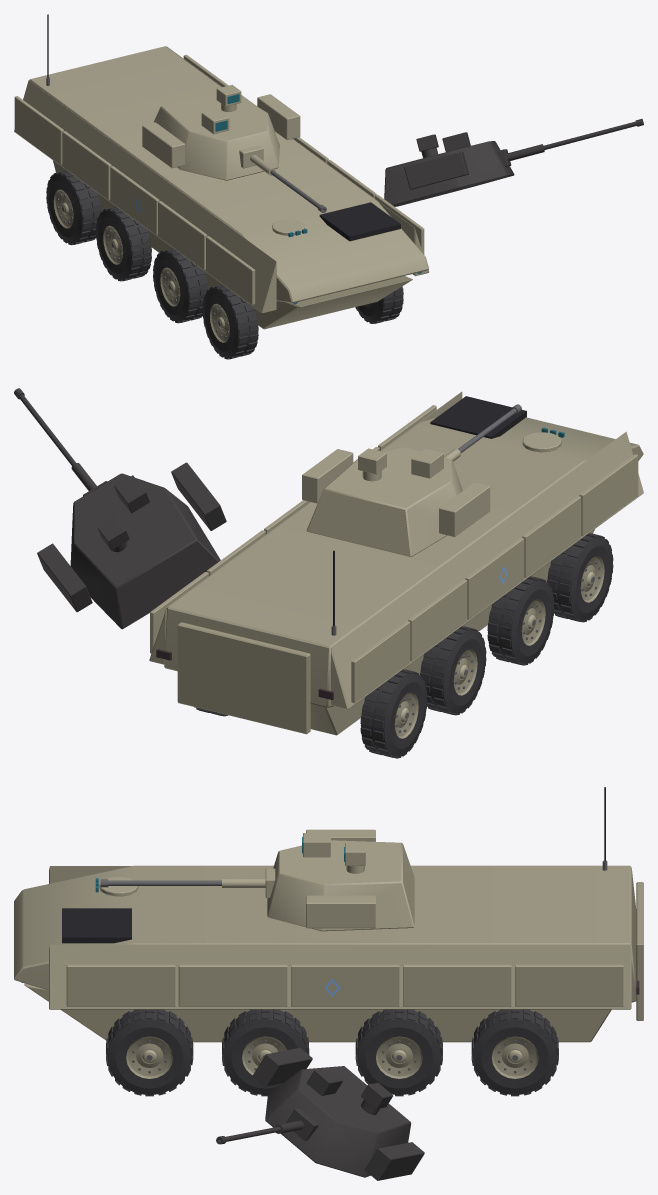
File: apc__vbm_freccia.glb
3 renders of one model, top to bottom at view 1: azimuth 30°, elevation 25°; view 2: azimuth 150°, elevation 25°; view 3: azimuth 270°, elevation 25°, orthographic. The views are drawn at different scales.
Visible parts, largest first — view 1: Hull_Mesh, Turret_Mesh, Wreck, Wheel_L3_Mesh, Wheel_L1_Mesh, Wheel_L0_Mesh, Wheel_L2_Mesh, Wheel_R3_Mesh, Gun_Mesh; view 2: Hull_Mesh, Wreck, Turret_Mesh, Wheel_L2_Mesh, Wheel_L0_Mesh, Wheel_L1_Mesh, Wheel_L3_Mesh, Gun_Mesh; view 3: Hull_Mesh, Wreck, Turret_Mesh, Wheel_R0_Mesh, Wheel_R3_Mesh, Wheel_R1_Mesh, Wheel_R2_Mesh, Gun_Mesh.
Part boxes in pixels (bbox=[...]): Hull_Mesh: bbox=[14, 14, 429, 329]; Turret_Mesh: bbox=[142, 84, 300, 180]; Wreck: bbox=[72, 119, 643, 358]; Wheel_L3_Mesh: bbox=[202, 284, 258, 359]; Wheel_L1_Mesh: bbox=[96, 206, 151, 281]; Wheel_L0_Mesh: bbox=[46, 170, 102, 245]; Wheel_L2_Mesh: bbox=[153, 248, 208, 323]; Wheel_R3_Mesh: bbox=[355, 286, 403, 323]; Gun_Mesh: bbox=[239, 145, 326, 213]; Hull_Mesh: bbox=[149, 391, 643, 735]; Wreck: bbox=[14, 388, 608, 758]; Turret_Mesh: bbox=[302, 447, 490, 556]; Wheel_L2_Mesh: bbox=[487, 576, 554, 665]; Wheel_L0_Mesh: bbox=[360, 669, 427, 758]; Wheel_L1_Mesh: bbox=[420, 626, 486, 715]; Wheel_L3_Mesh: bbox=[547, 533, 613, 622]; Gun_Mesh: bbox=[444, 404, 521, 461]; Hull_Mesh: bbox=[14, 787, 643, 1042]; Wreck: bbox=[165, 1048, 424, 1180]; Turret_Mesh: bbox=[267, 829, 414, 931]; Wheel_R0_Mesh: bbox=[471, 1009, 558, 1096]; Wheel_R3_Mesh: bbox=[106, 1009, 193, 1096]; Wheel_R1_Mesh: bbox=[355, 1009, 442, 1096]; Wheel_R2_Mesh: bbox=[222, 1009, 309, 1096]; Gun_Mesh: bbox=[100, 868, 275, 897].
Size of what is drawn, in the model's own units: 7.96 by 3.23 by 8.1.
